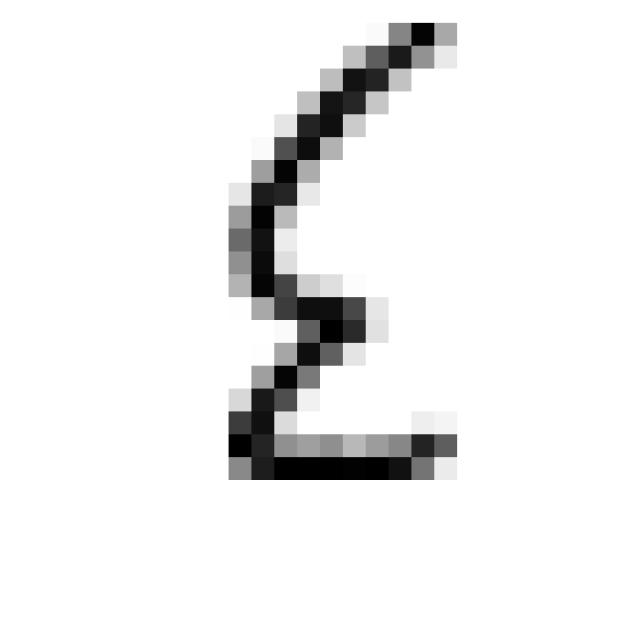4 -four-: (203, 9, 481, 504)
